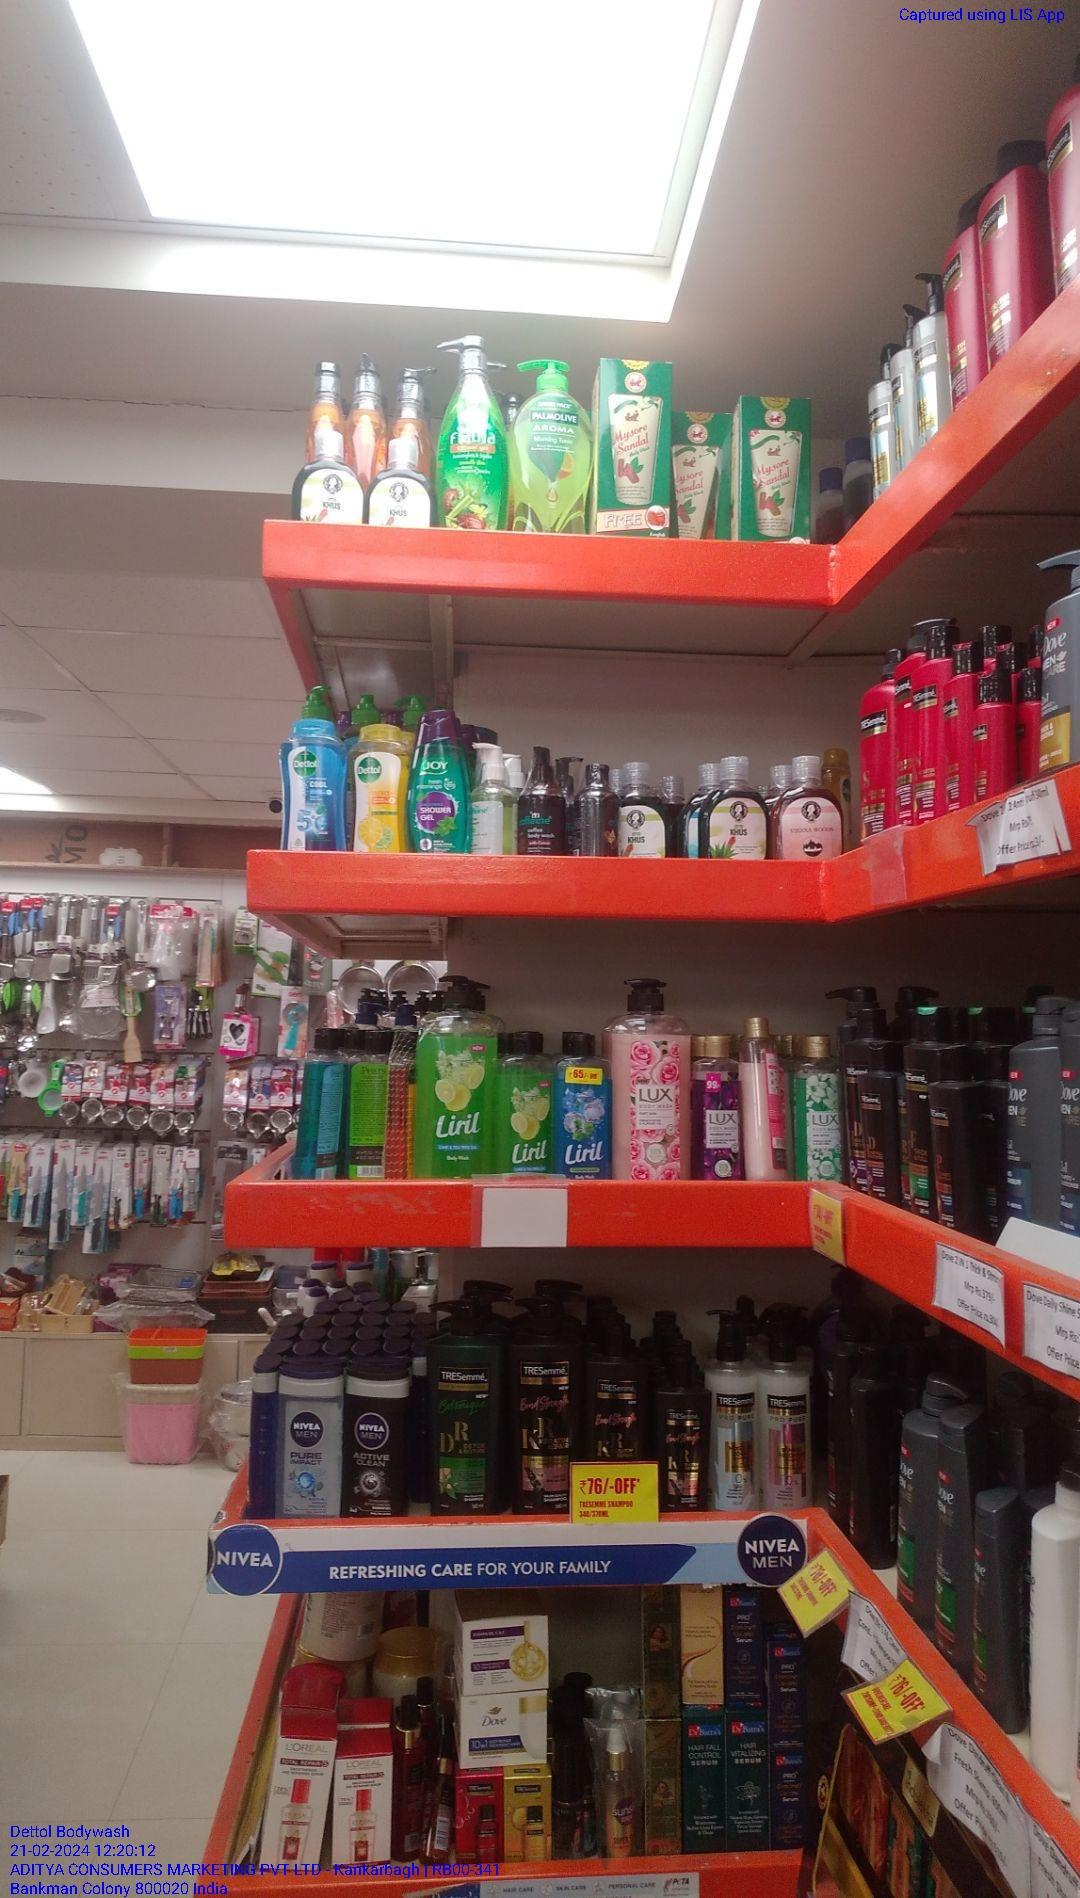Dettol_Bodywash_Cool: (278, 717, 348, 851)
Dettol_Bodywash_Refresh: (348, 722, 408, 851)
Joy_Shower_Gel_Mint_and_Eucalyptus_250ML: (407, 708, 470, 854)
Liril_Lime_and_Tea_Tree_Oil_Body_Wash_250ML: (552, 1031, 613, 1180), (494, 1031, 553, 1176)
Lux_Black_Orchid_Scent_and_Juniper_Oil_Body_Wash_245ML: (693, 1031, 742, 1180)
Lux_Body_Wash_Skin_Detox_Freesia_Scent_and_Alove_Vera_245ML: (788, 1032, 841, 1182)
